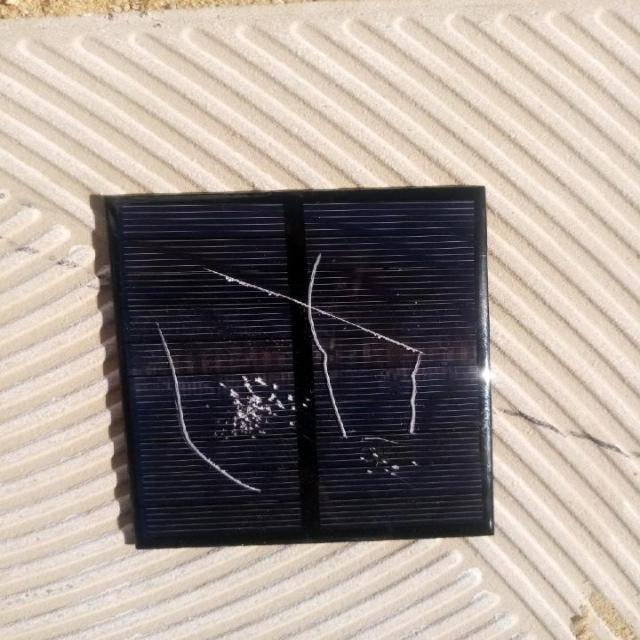faulty: (105, 204, 491, 534)
